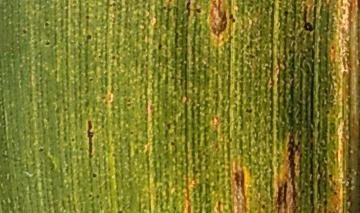tarspot: (84, 115, 96, 165), (300, 18, 317, 36), (153, 39, 166, 55), (243, 103, 256, 117), (192, 5, 204, 18), (228, 10, 237, 27), (81, 10, 93, 22), (18, 25, 29, 38), (282, 7, 292, 20), (83, 31, 94, 42), (89, 169, 99, 181), (41, 18, 51, 30), (36, 145, 46, 156), (43, 38, 53, 49), (167, 139, 178, 148), (325, 172, 335, 180)
